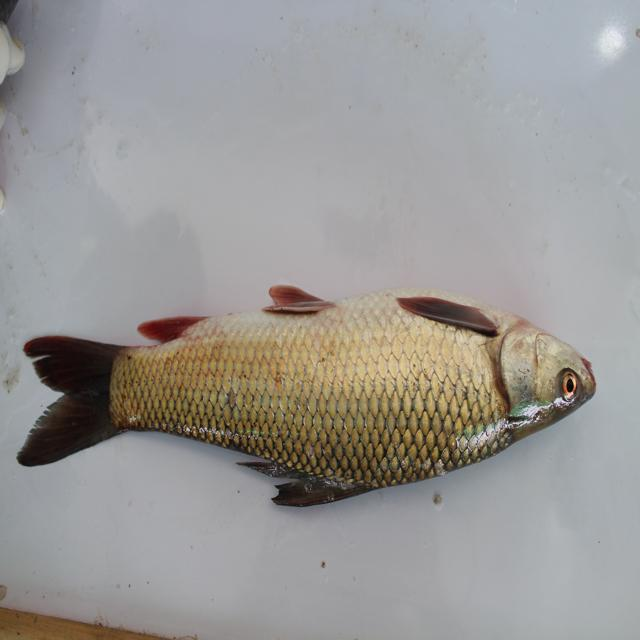Grass Carp: (25, 289, 593, 520)
